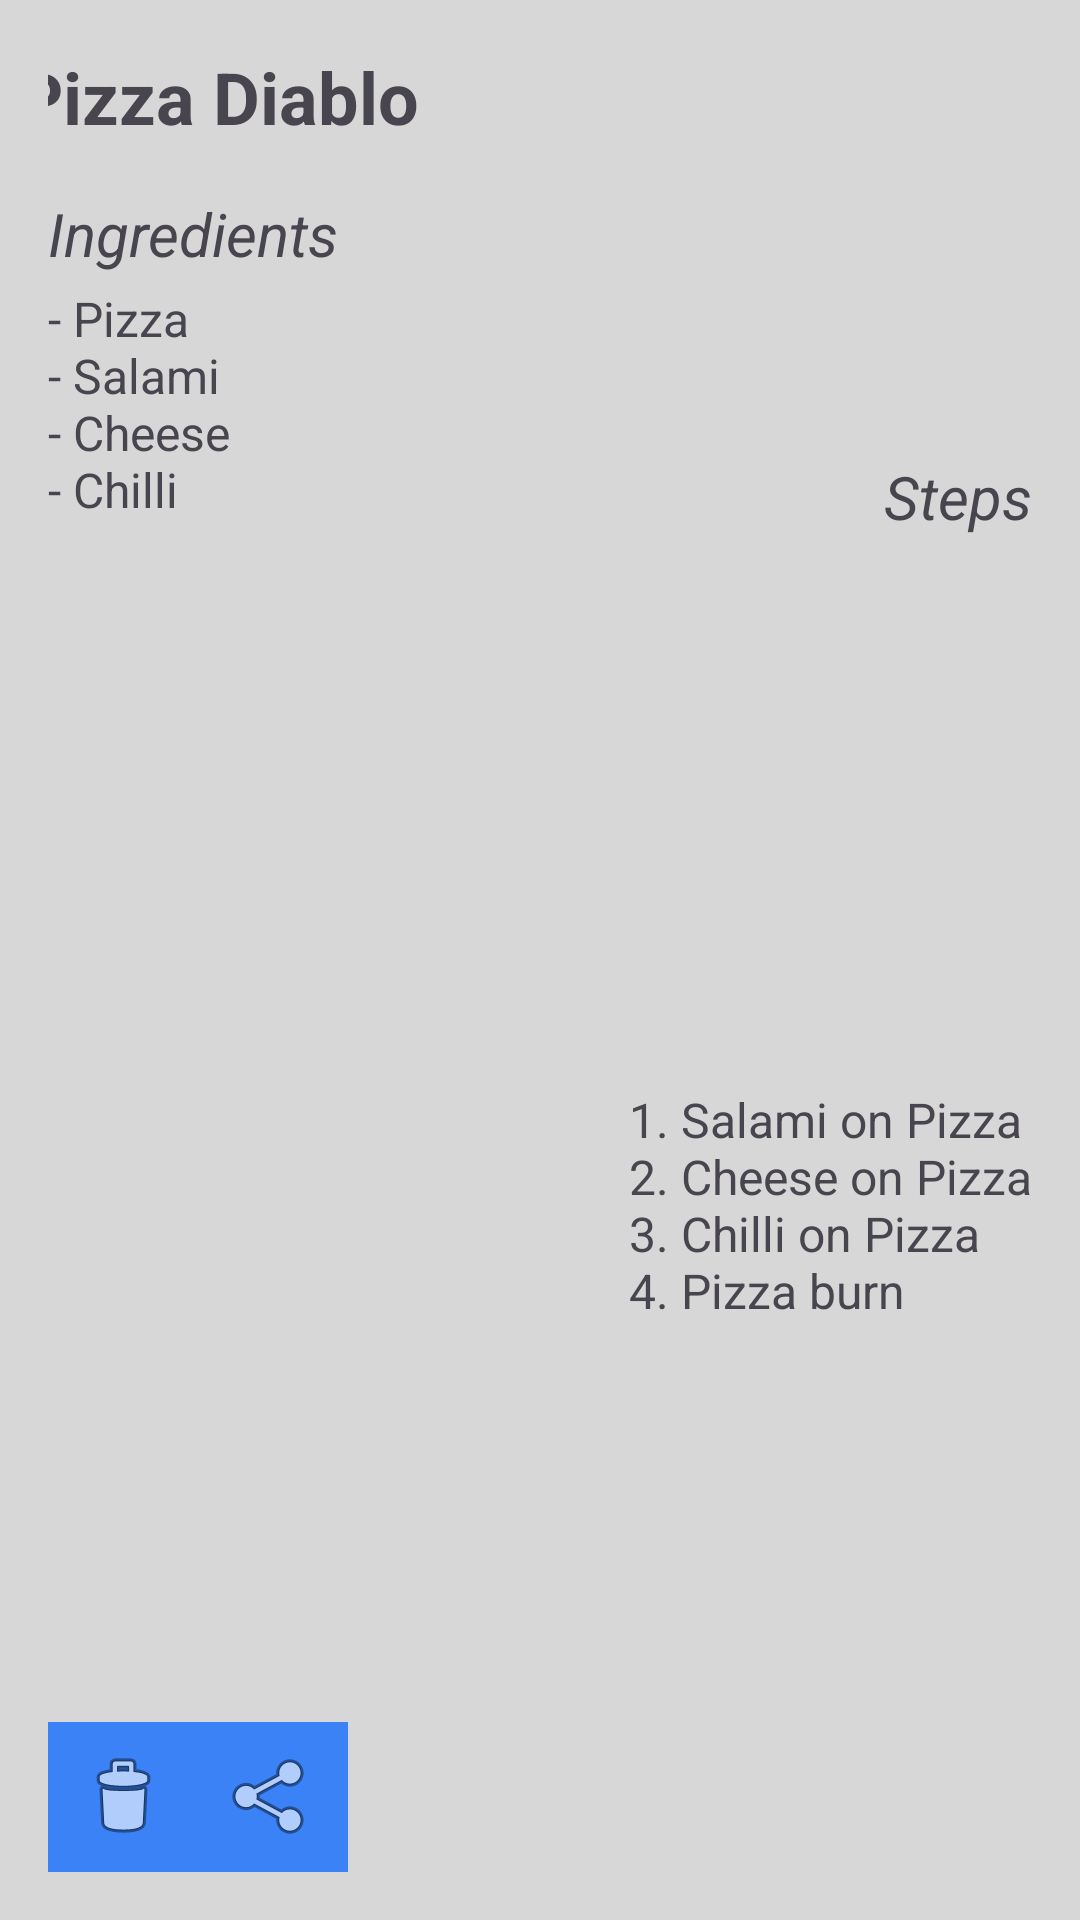

Icons on this 1080 x 1920 Android screen, each with its box as (x1, y1, x2, y2):
delete this recipe: (48, 1722, 198, 1872)
share this recipe: (198, 1722, 348, 1872)
